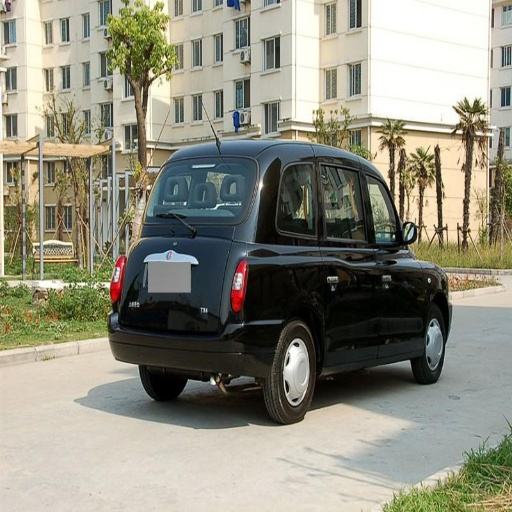back_bumper: (111, 314, 283, 374)
back_right_door: (274, 157, 378, 352)
trunk: (120, 224, 302, 337)
